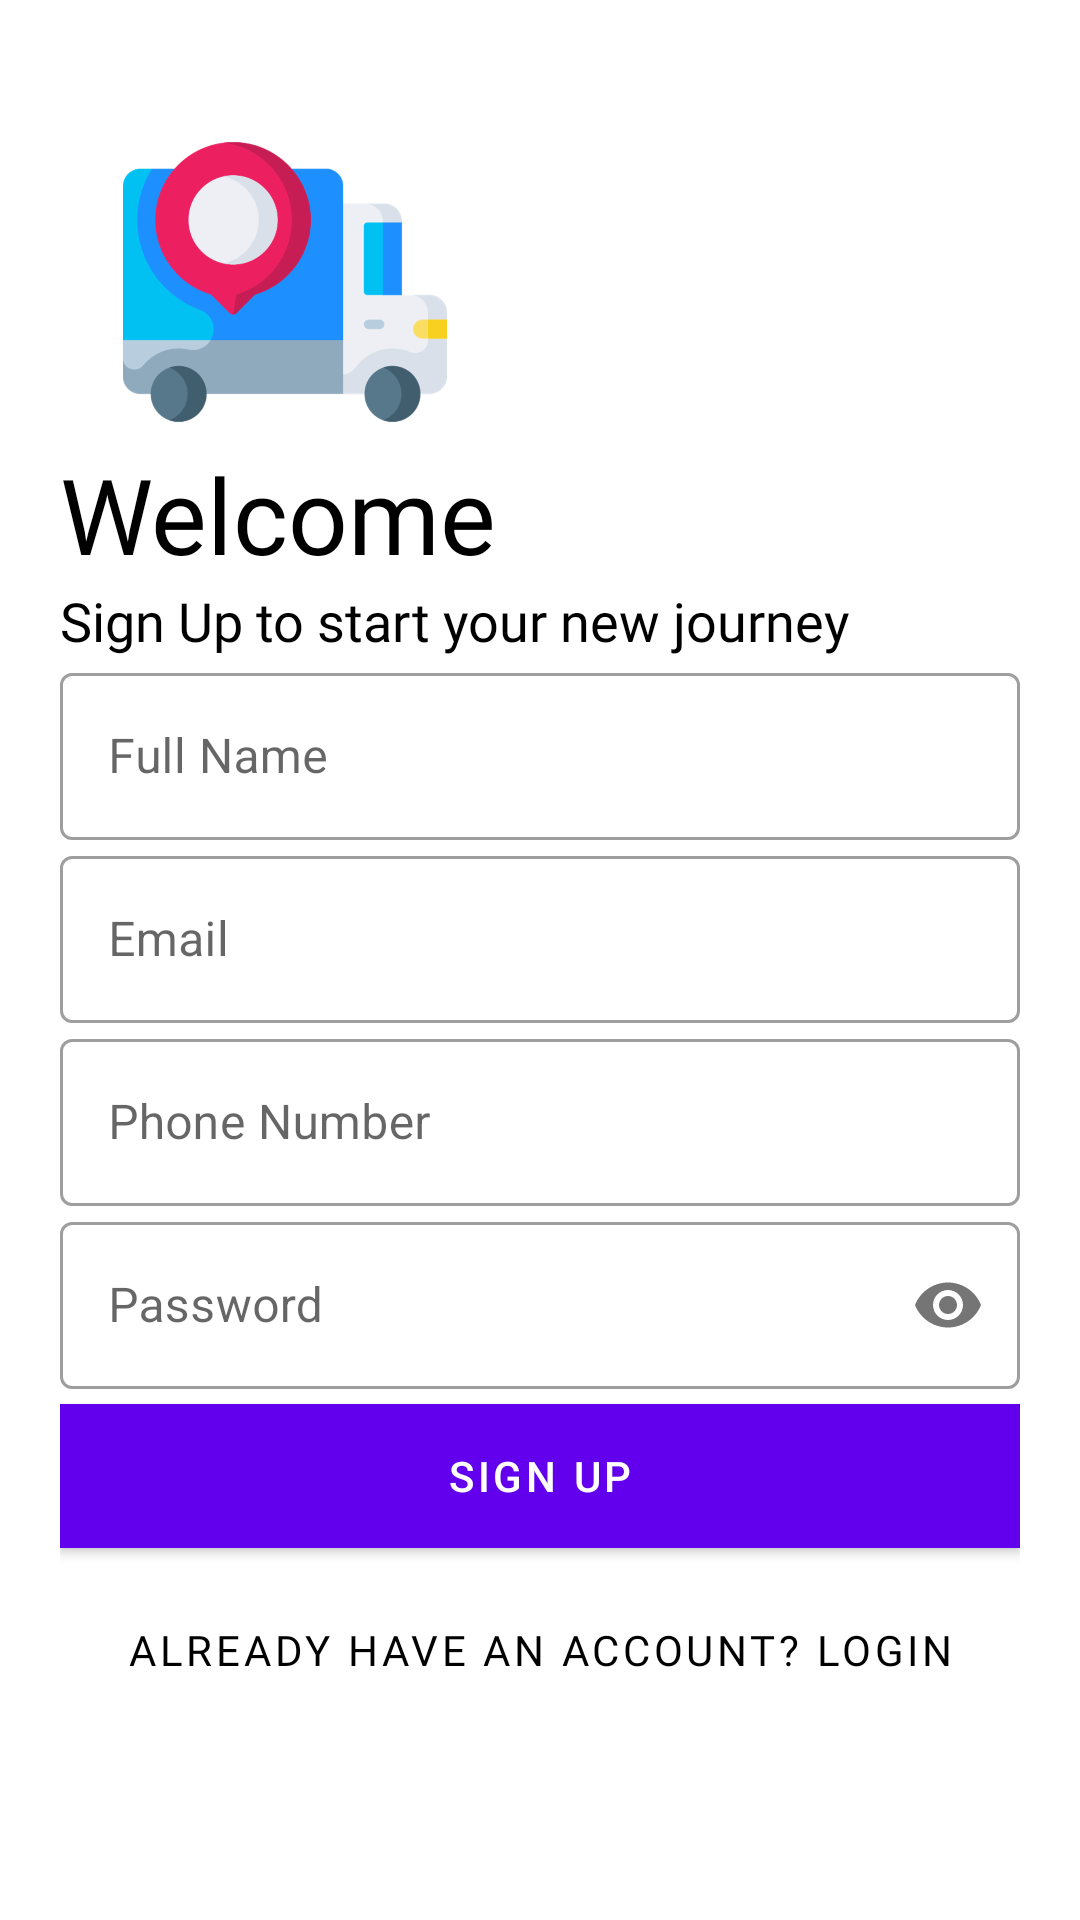

Screen size 1080*1920. Icon name, then its center in pixels as [x,y]:
delivery truck: [285,282]
